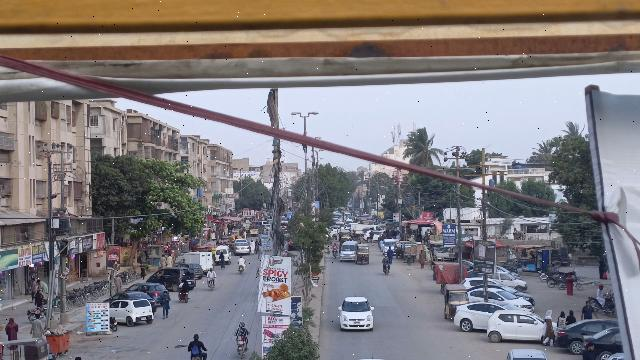Bike: (234, 341, 248, 358), (178, 290, 192, 304), (380, 262, 392, 277), (205, 277, 216, 291), (238, 265, 244, 275)
Car: (486, 306, 549, 343), (451, 298, 514, 334), (554, 318, 619, 352), (336, 293, 376, 331), (109, 298, 154, 328), (147, 264, 197, 290), (126, 280, 169, 306)
Person: (542, 307, 557, 347), (187, 332, 208, 358), (159, 289, 174, 321), (3, 315, 20, 342), (28, 314, 44, 338), (233, 319, 250, 341), (580, 299, 596, 319), (581, 341, 597, 360), (555, 309, 566, 327), (566, 309, 577, 325), (205, 266, 218, 279), (382, 254, 391, 265), (237, 255, 246, 266), (183, 279, 190, 293), (179, 280, 185, 291)
Rickshaw: (441, 283, 469, 321), (355, 244, 372, 266)
Truck: (175, 250, 215, 273)
Van: (339, 239, 359, 265)
